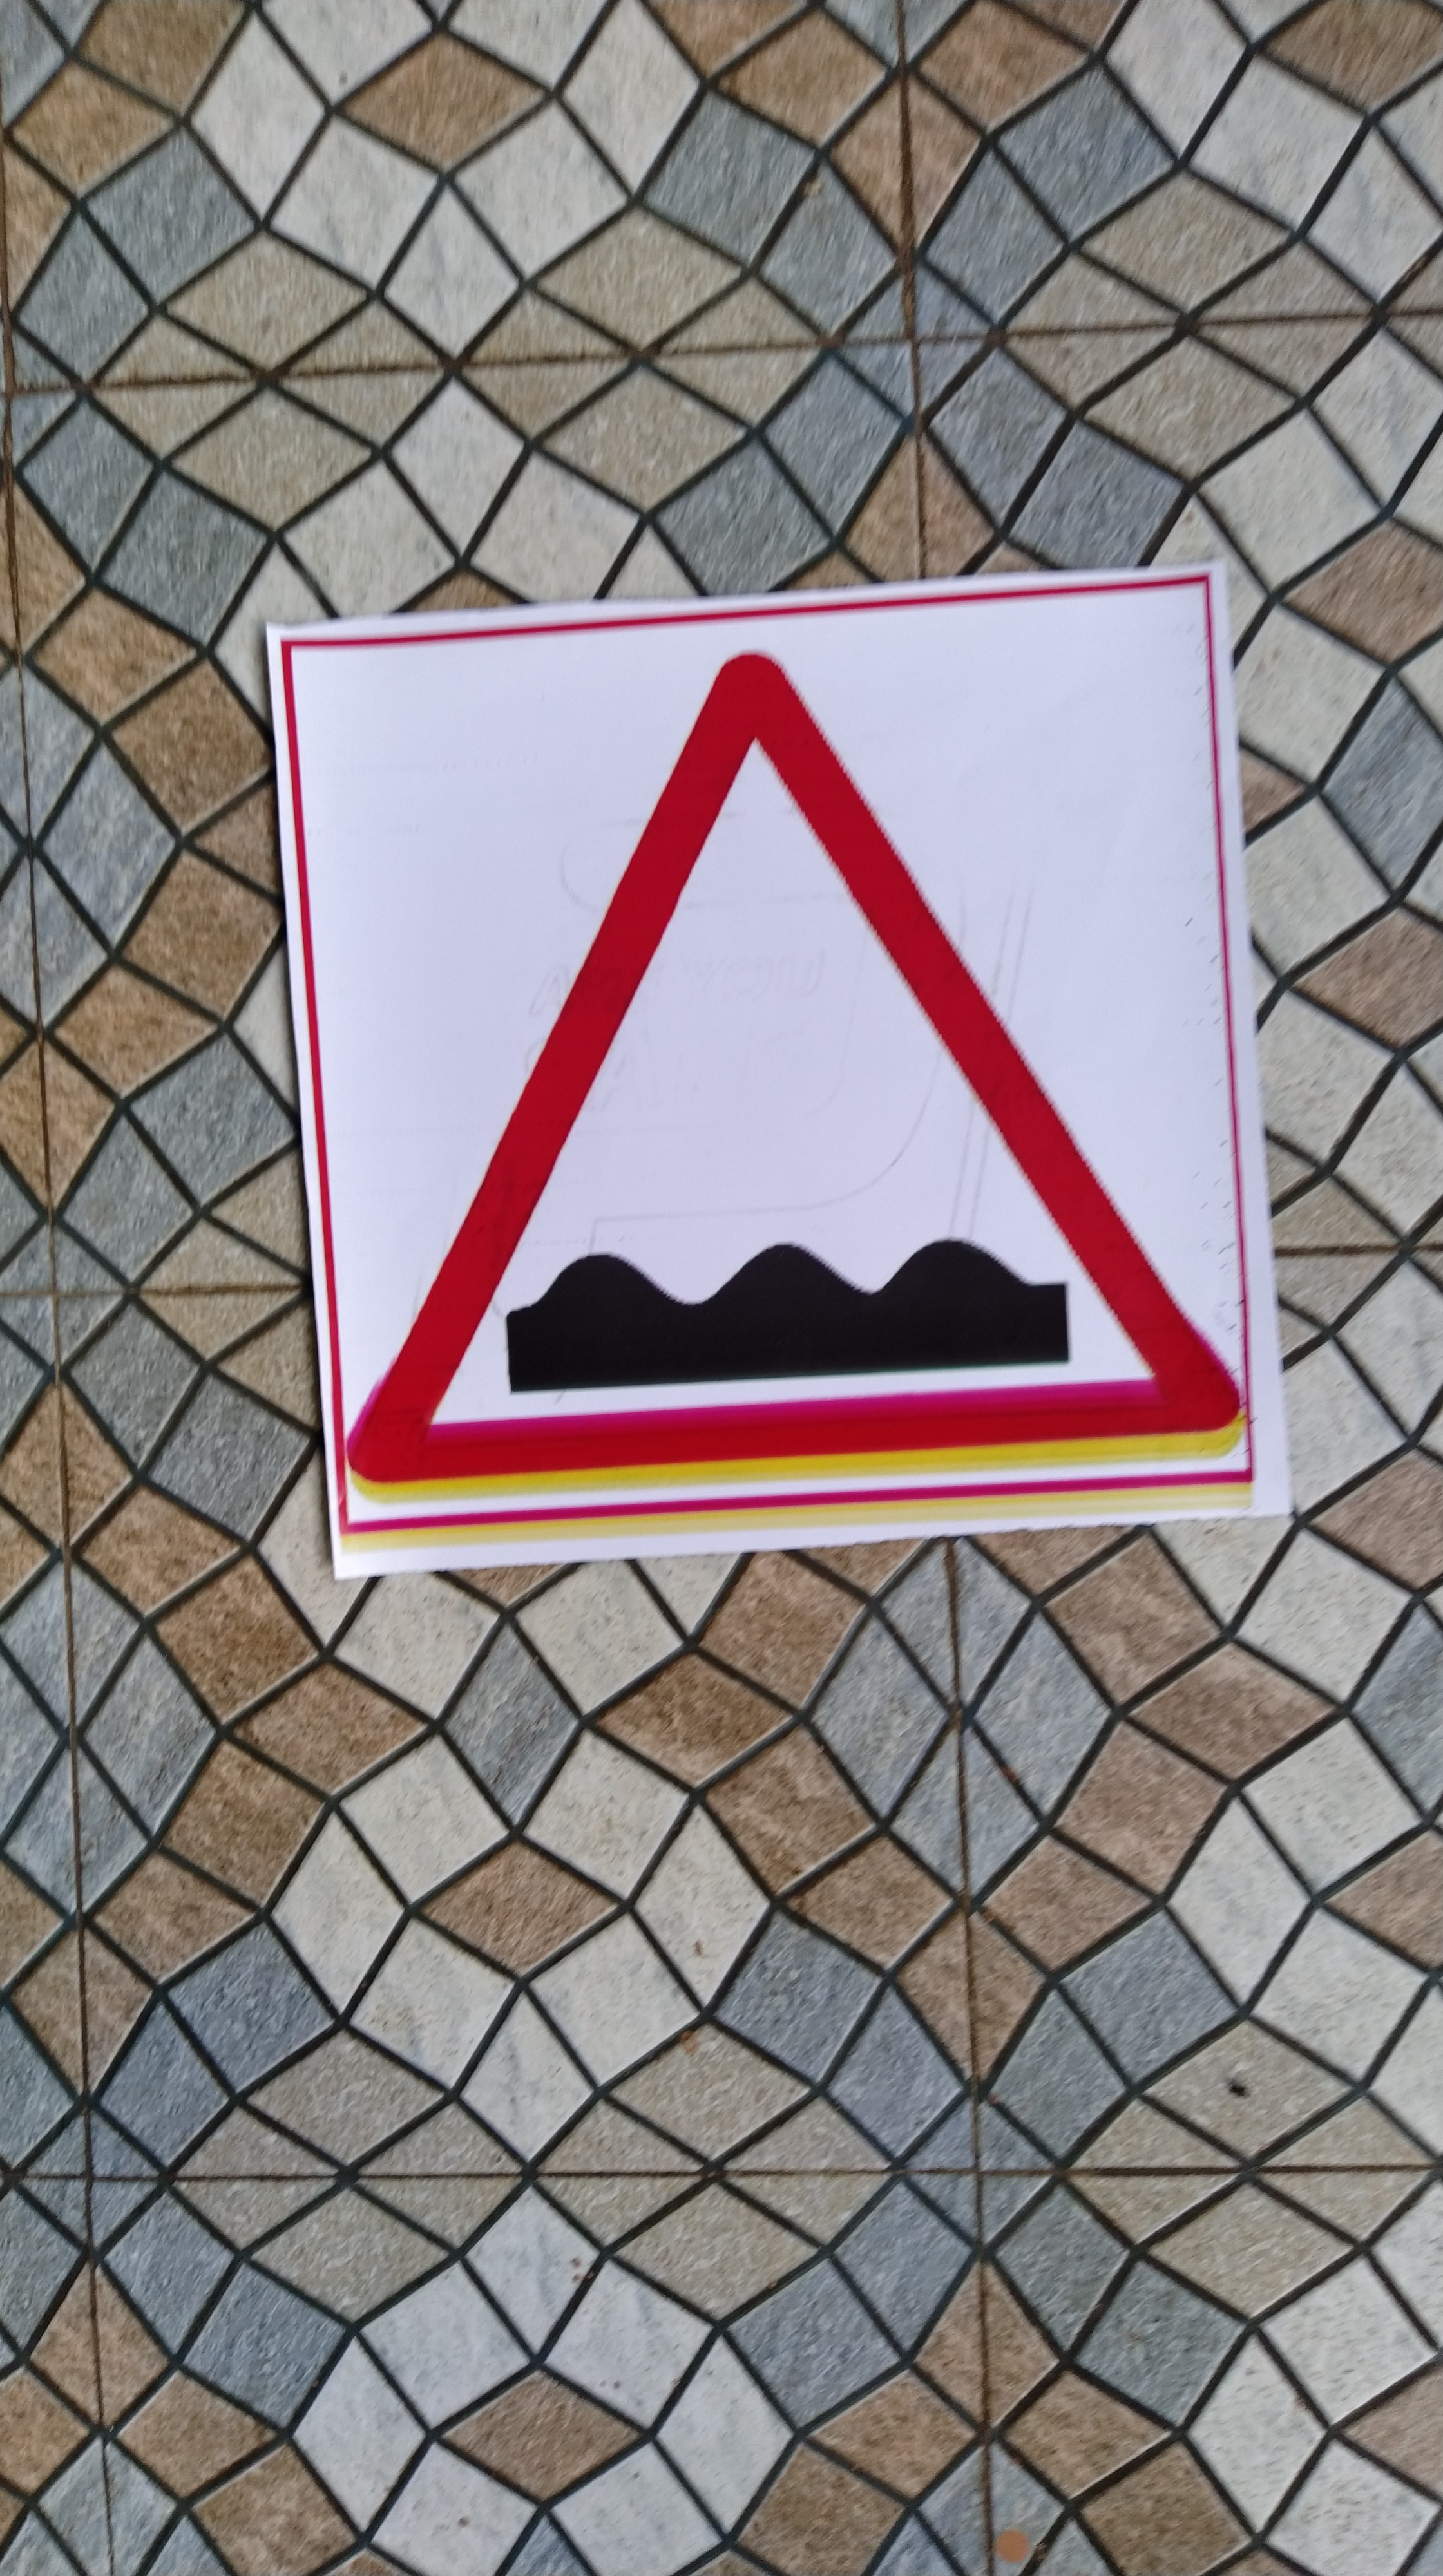speed breaker: (292, 623, 1278, 1520)
